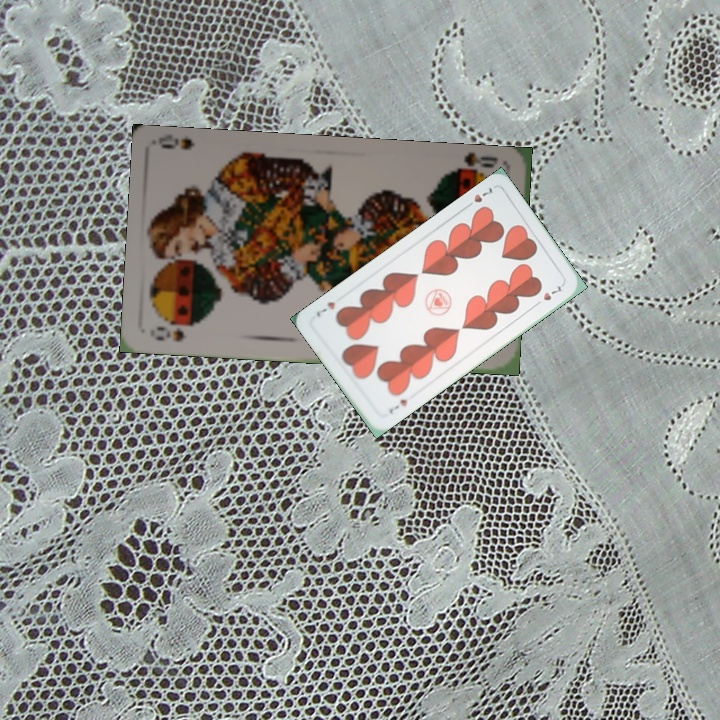H7: (461, 183, 495, 211), (385, 395, 410, 416)
SO: (445, 151, 500, 179), (152, 319, 196, 344)
